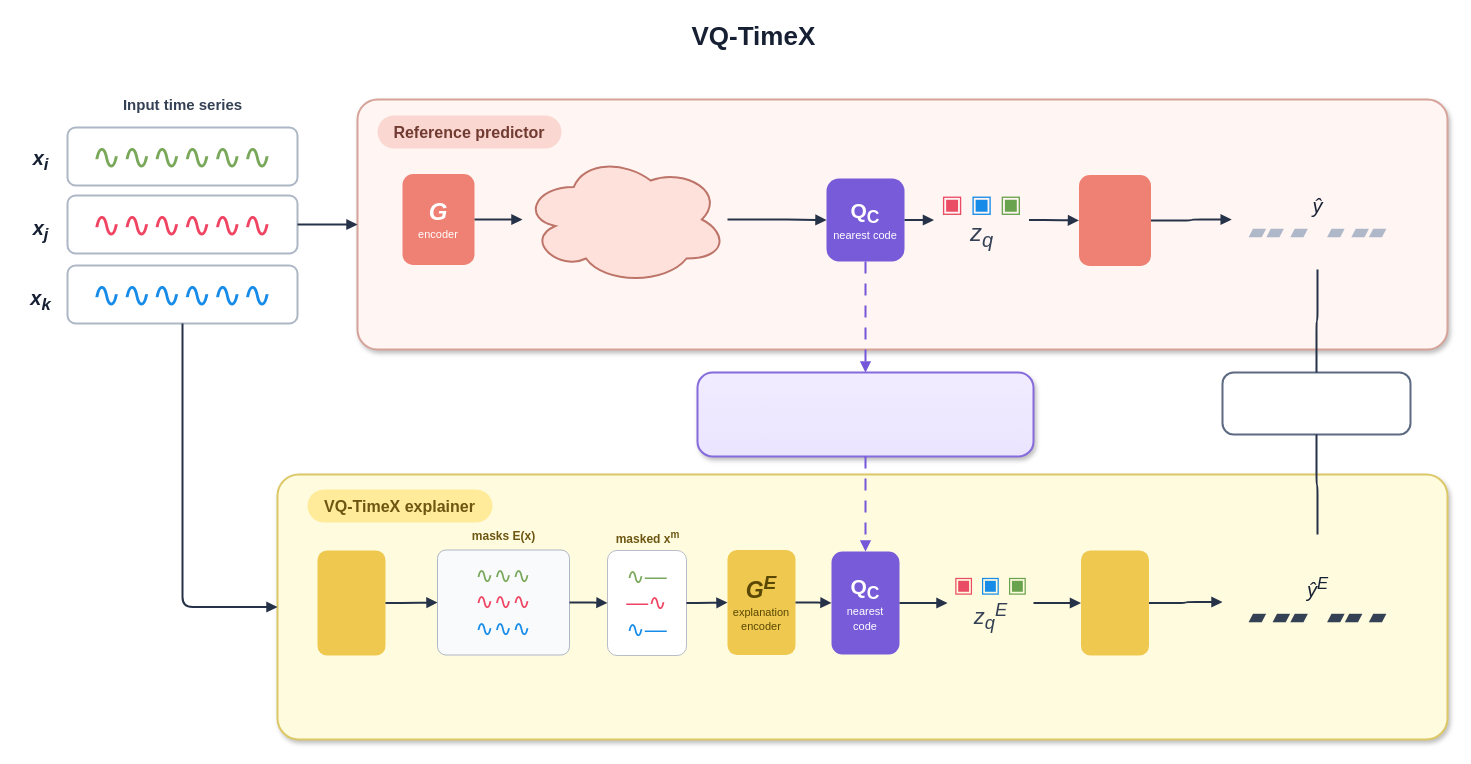
This 1471x764 diagram has some shape labels left out. The shapes that lost their labels are listed below. From the top down, each one's centre as x and y in pixels, then its label:
At point 624,219: "continuous latent space ● z i ● z j ● z k".
At point 1114,220: "F classifier".
At point 866,415: "Shared codebook C learned discrete representations ▣ ▣ ▣ ▣".
At point 1316,403: "Label consistency ℒ LC (ŷ, ŷ E )".
At point 351,602: "H E mask generator".
At point 1114,602: "F E surrogate classifier".
